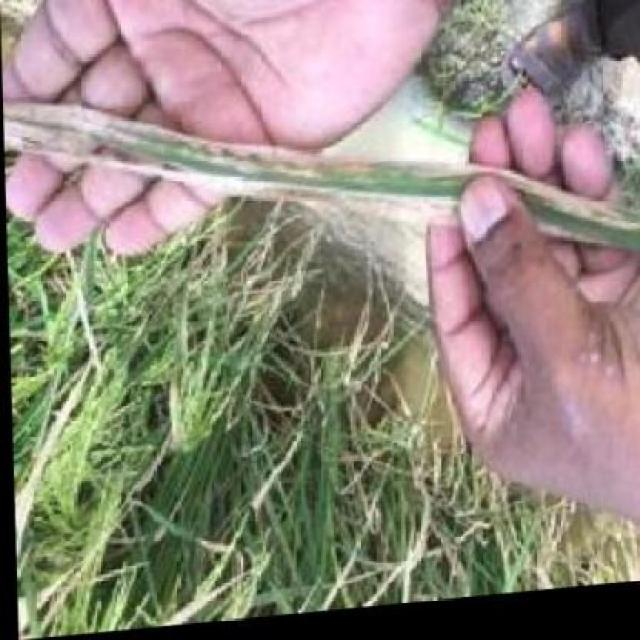Brown_Spot: (5, 57, 610, 311)
